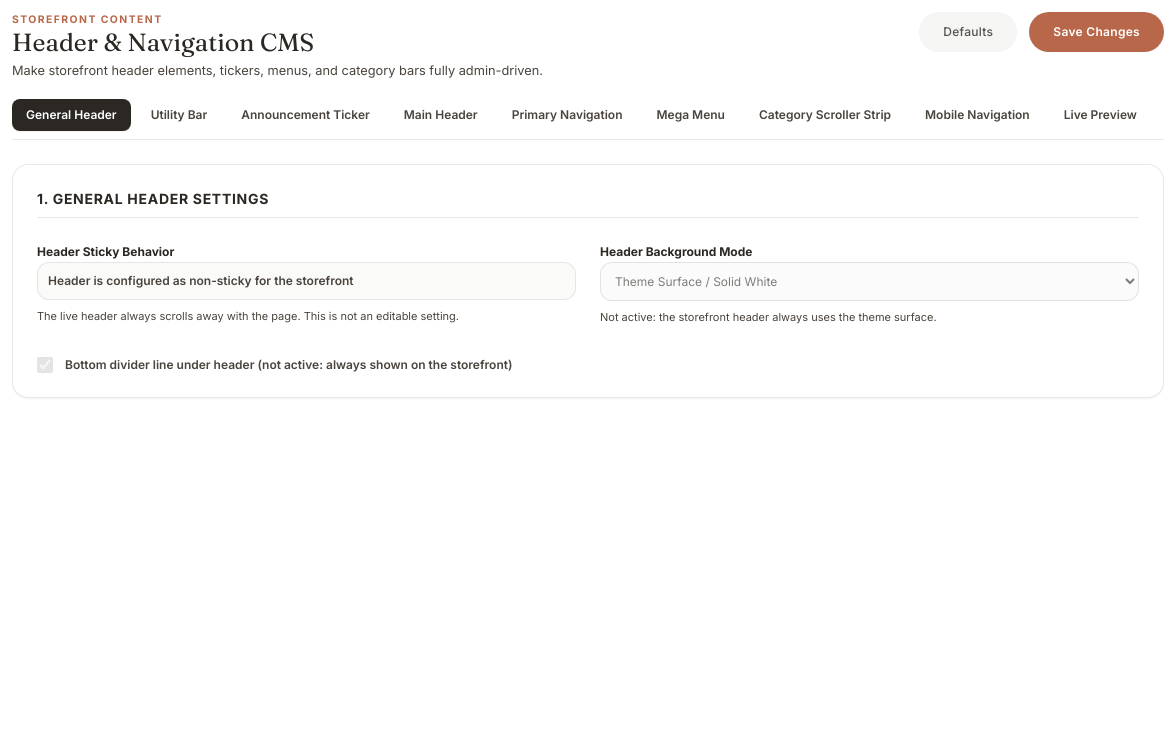
Test: Admin Header CMS save flow › 11. a successful save clears the dirty state and refreshes site settings
Expected: the heading "Header & Navigation CMS" is shown, left=12, top=27, right=314, bottom=57
Click the button "Main Header" at [441, 114], box left=390, top=98, right=492, bottom=130
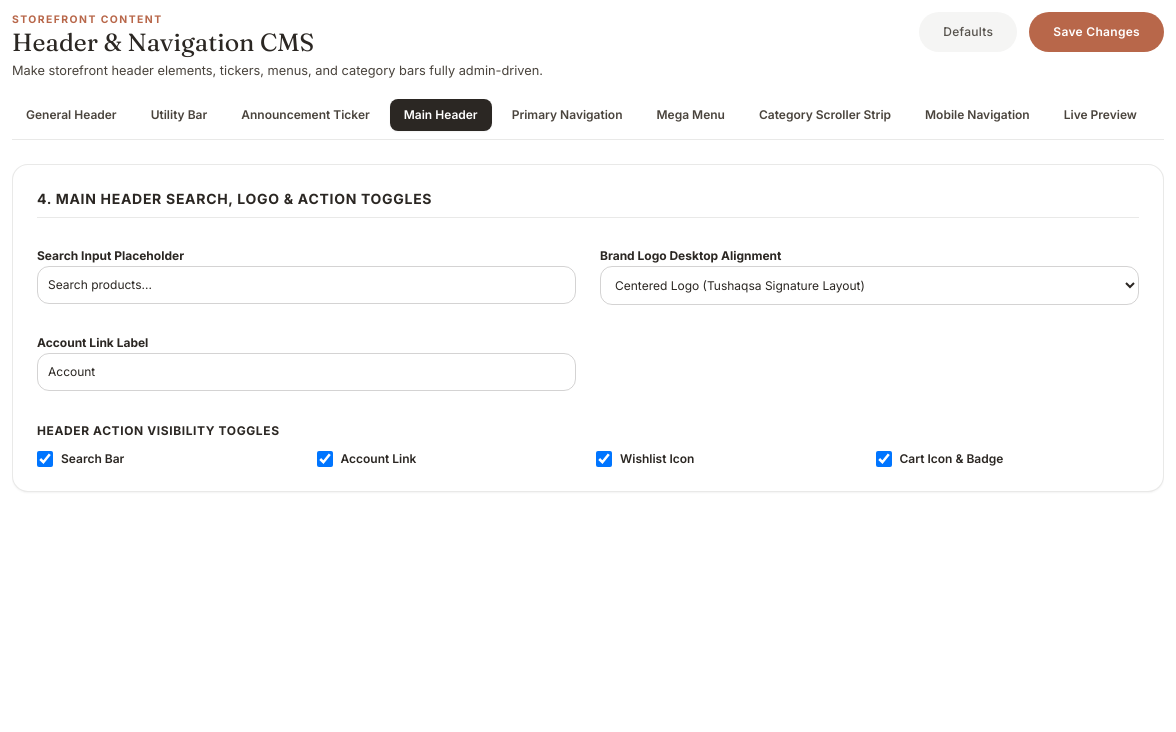
Replace the text in the field showing "Search products..." below "Search Input Placeholder" with "Find decor" at [306, 284], box left=37, top=266, right=576, bottom=304
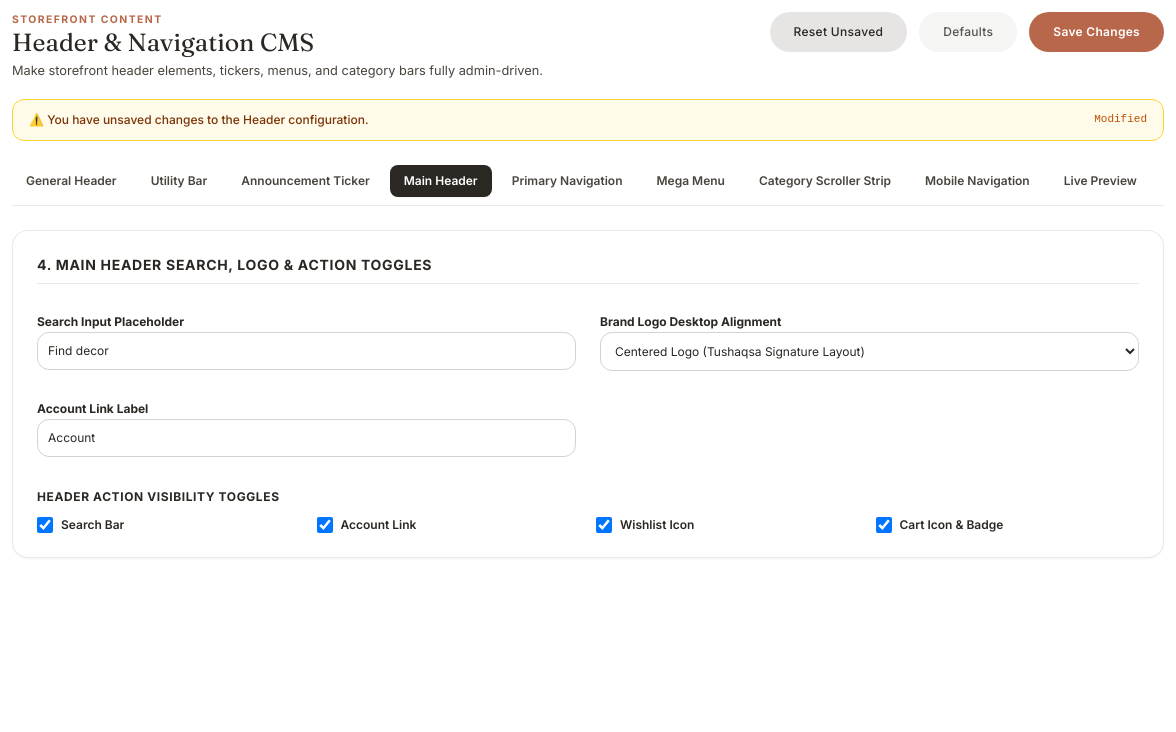
Result: the text "⚠️ You have unsaved changes to the Header configuration." is shown at left=29, top=112, right=369, bottom=128
Click the button "Save Changes" at [1097, 32], box left=1029, top=12, right=1164, bottom=52
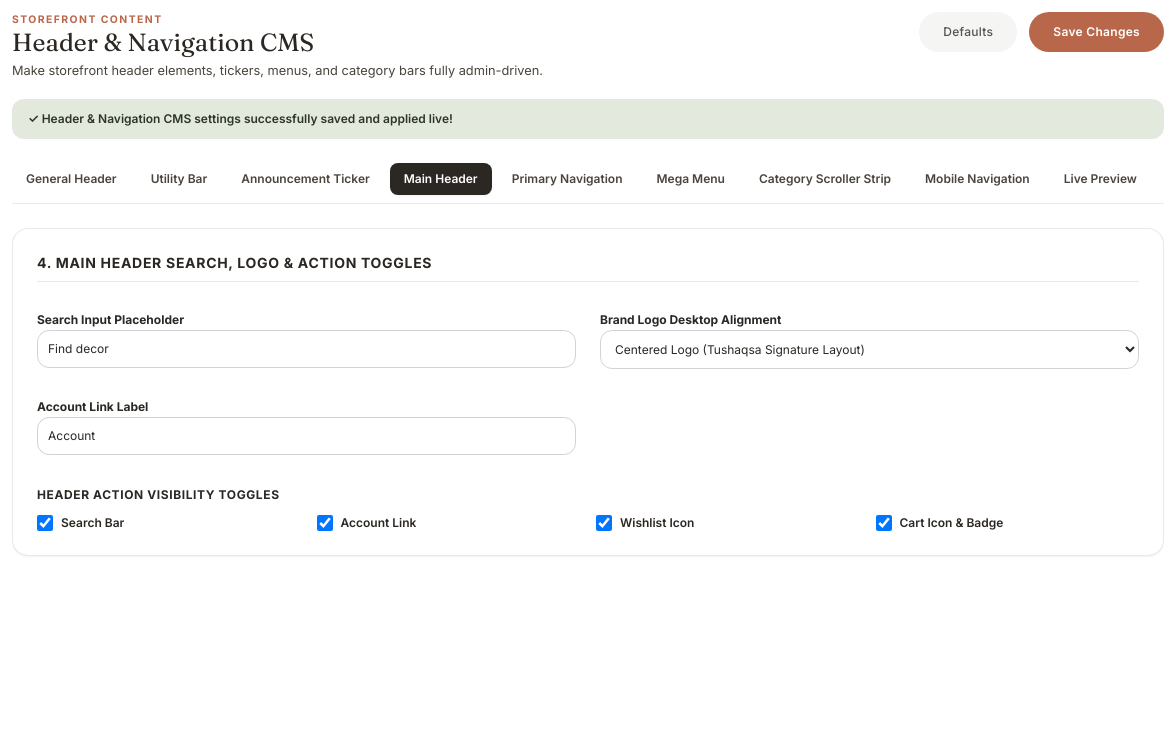
Result: the text "successfully saved" is shown at left=28, top=110, right=453, bottom=126
Result: the text "unsaved changes" is gone
Result: the button "Reset Unsaved" is gone
